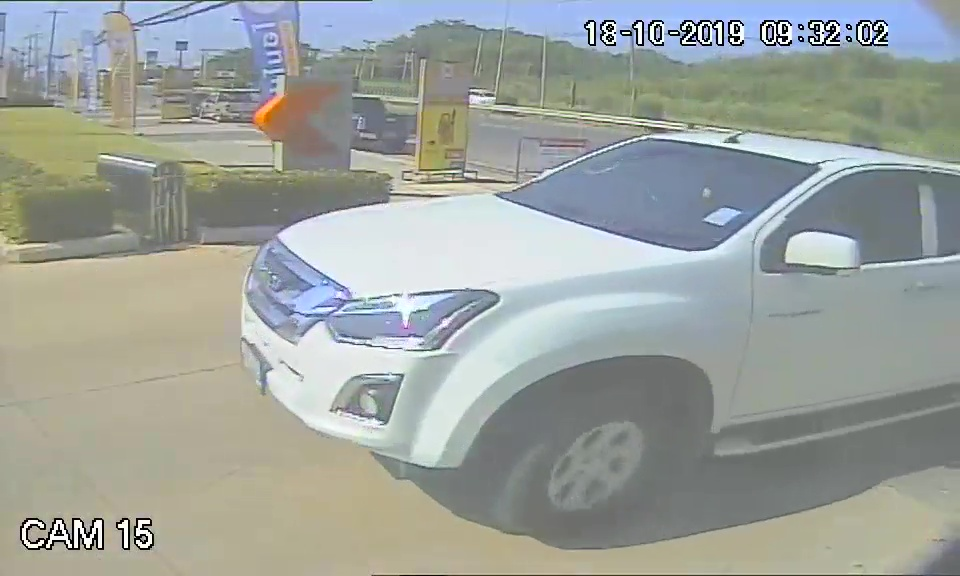pickup: (236, 125, 958, 539)
